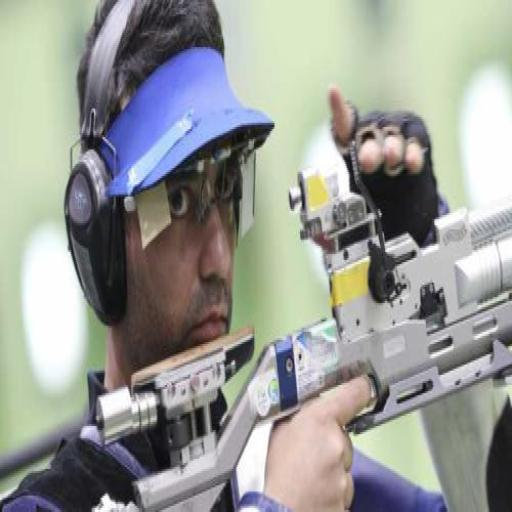shooting: (23, 36, 497, 512)
